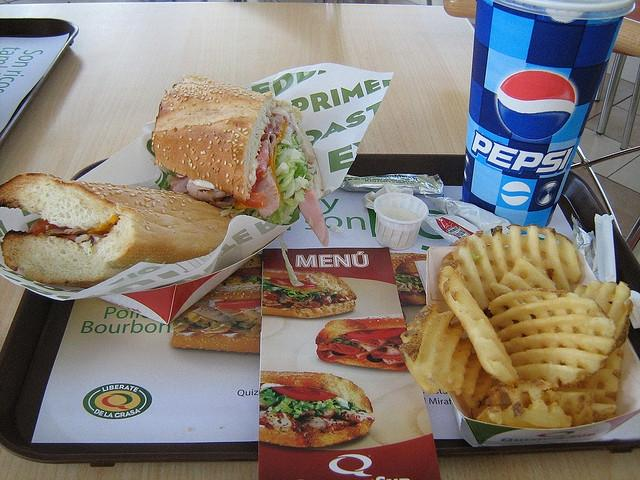lettuce: (275, 148, 306, 172), (155, 167, 178, 190), (270, 394, 296, 414), (282, 196, 300, 215), (282, 176, 296, 199), (294, 164, 312, 180), (294, 174, 309, 192), (282, 288, 306, 298), (281, 126, 293, 146), (210, 320, 237, 328), (220, 208, 246, 215)
tomato: (238, 140, 270, 208), (272, 386, 336, 401), (346, 328, 406, 340), (28, 218, 68, 236), (270, 278, 318, 288), (215, 299, 261, 308), (338, 344, 358, 353)
